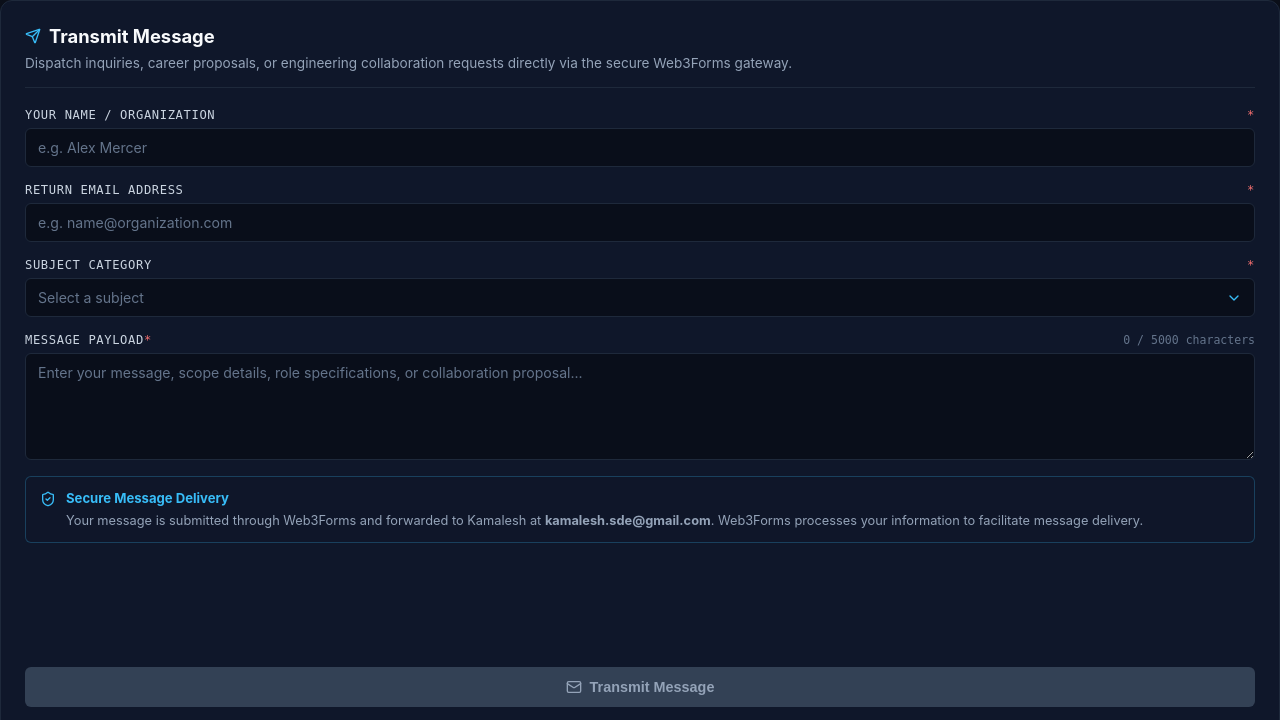
Scenario: KAI HQ Feature Enhancement Batch Test Suite › Feature 4 & 6: Communication Center Web3Forms Transmission & Disclaimer › supports custom dropdown click and keyboard navigation with dark theme options
This screenshot has width=1280, height=720.
Note: Open dropdown via click
Click the button with aria-label "Select category": (91, 298) [25, 278, 1255, 317]
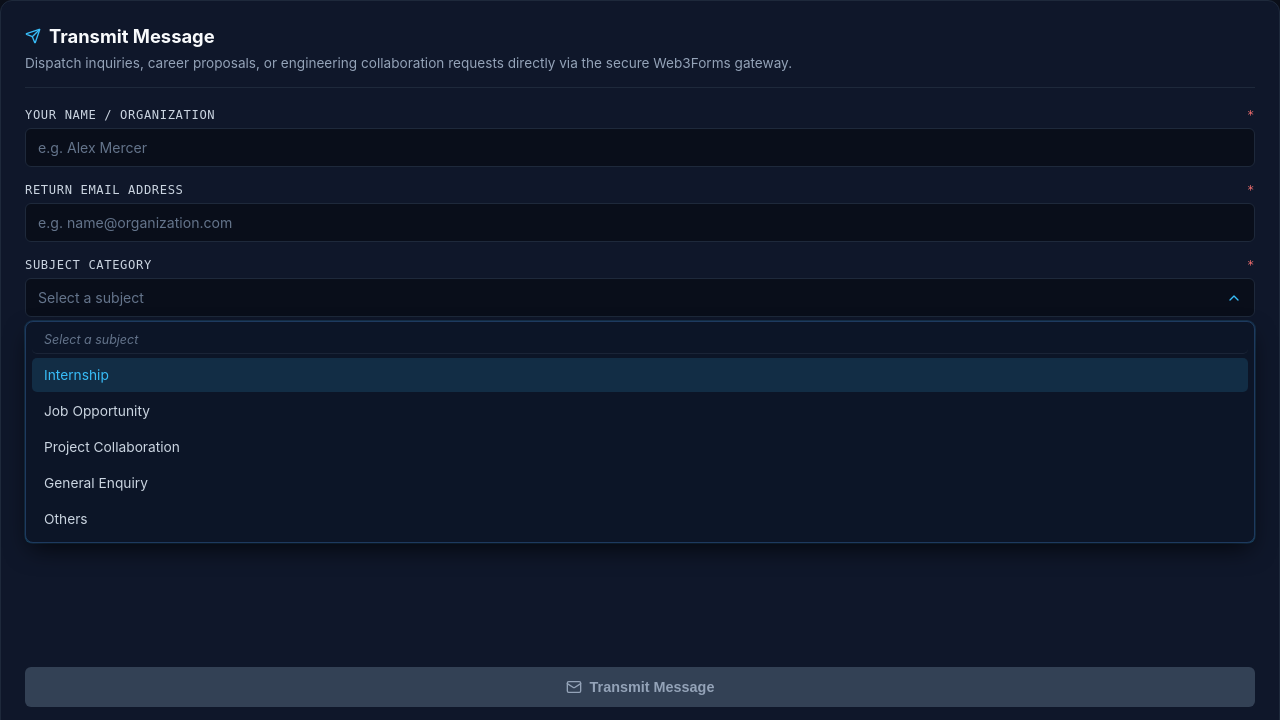
Check: the button with aria-label "Select category" is expanded, box [25, 278, 1255, 317]
Check: the list is shown, box [25, 321, 1255, 543]
Check: the text "Project Collaboration" is shown
Click the option "Project Collaboration": (112, 447) [44, 439, 180, 455]
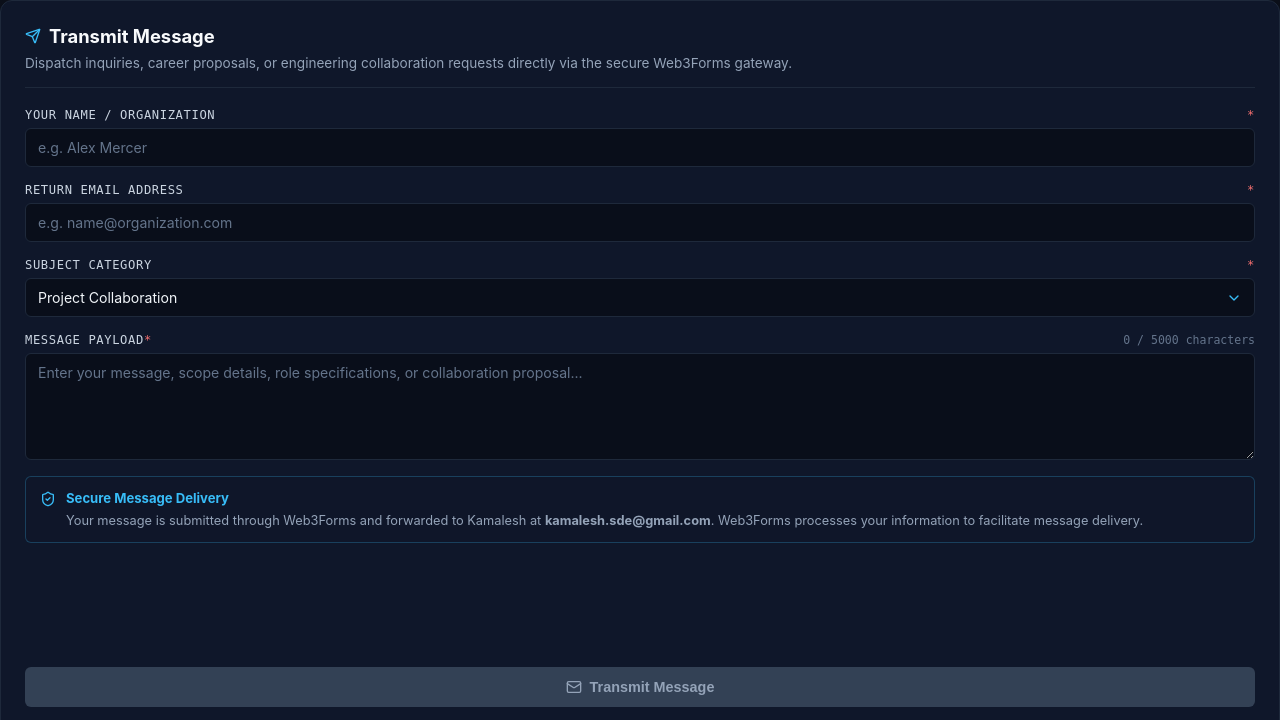
Check: the list is gone
Note: Open dropdown via ArrowDown key and close via Escape
Press ArrowDown in the button named "Select category", box [25, 278, 1255, 317]
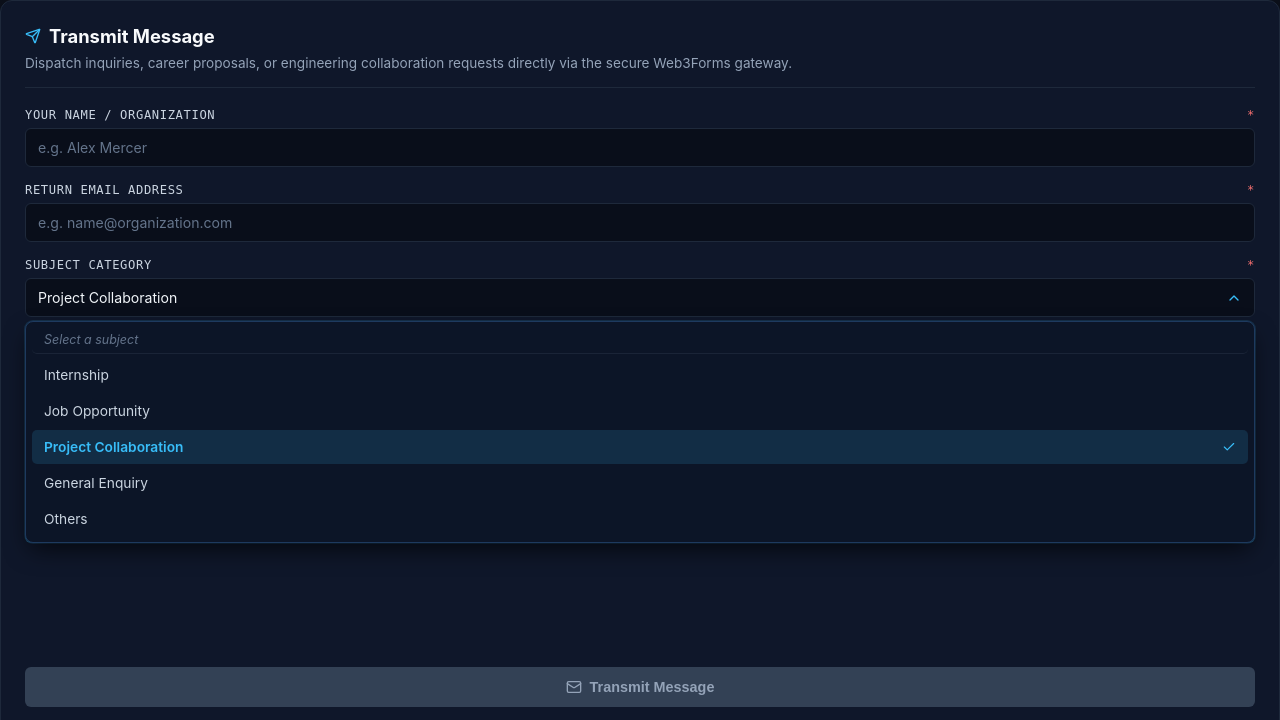
Check: the list is shown, box [25, 321, 1255, 543]
Press Escape in the button named "Select category", box [25, 278, 1255, 317]
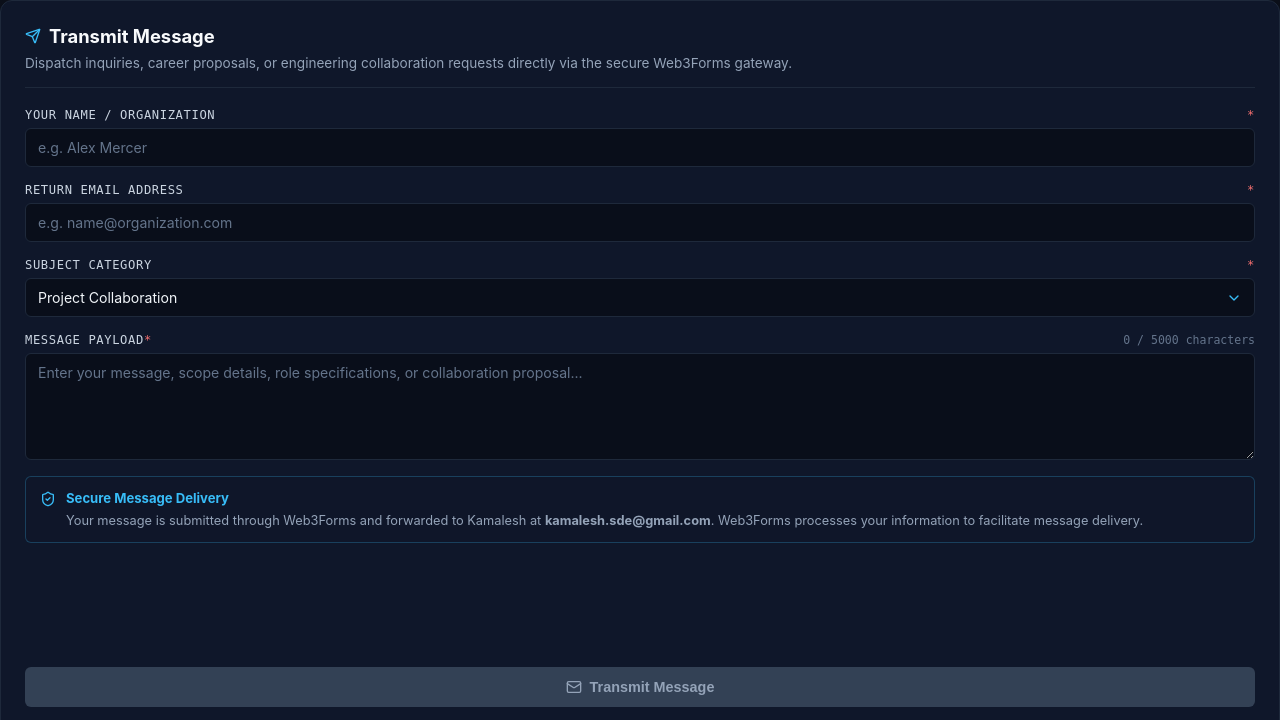
Check: the list is gone
